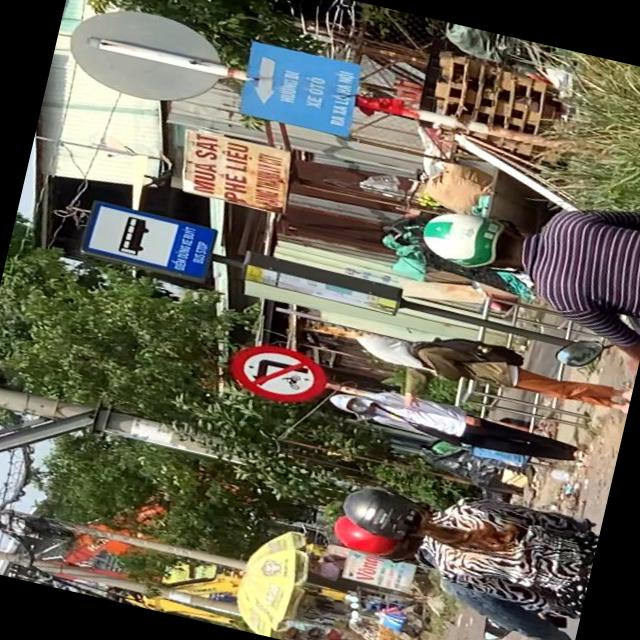I-434a: (77, 200, 218, 280)
P-123a: (223, 336, 329, 410)
